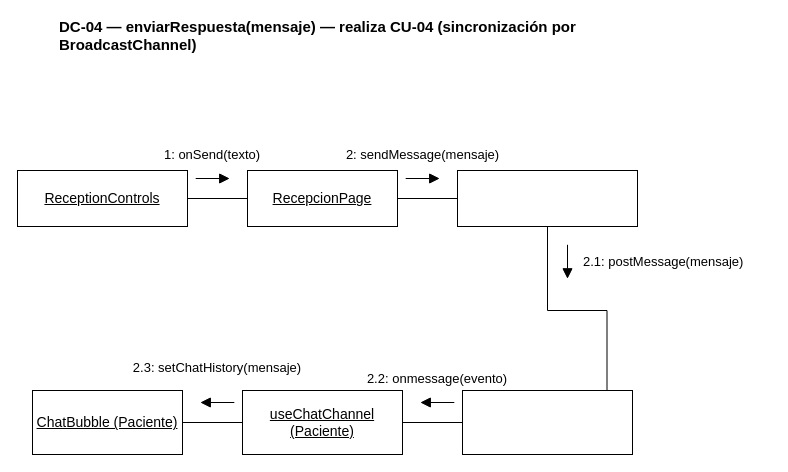
Some shapes in this 788 by 472 pixel diagram are drawn without their labels. Here are the shapes that lost their labels. From the top down, the centre of each, then its label:
At point (547, 198): "useChatChannel (Recepción)".
At point (547, 422): "BroadcastChannel (canal nexora-chat)".
